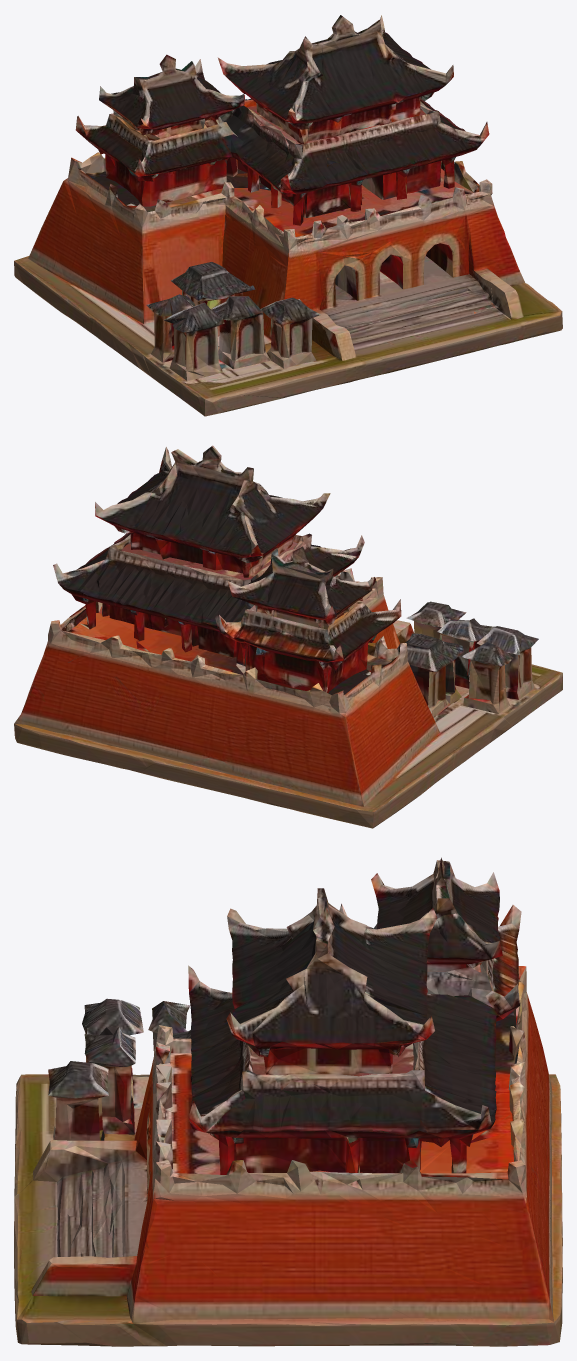
Rendered from chihkan-tower.glb.
3 renders of one model, top to bottom at view 1: azimuth 30°, elevation 25°; view 2: azimuth 150°, elevation 25°; view 3: azimuth 270°, elevation 25°, orthographic. The views are drawn at different scales.
Parts seen in each view (by area): view 1: logan-textured.obj; view 2: logan-textured.obj; view 3: logan-textured.obj.
Part boxes in pixels (x1,y1,x2,y2): logan-textured.obj: (14, 15, 562, 416); logan-textured.obj: (14, 445, 562, 828); logan-textured.obj: (14, 857, 562, 1346).
Bounding box in the file's own units: 1 × 0.6904 × 0.9287.
Materials: 1 (1 with a texture image).
